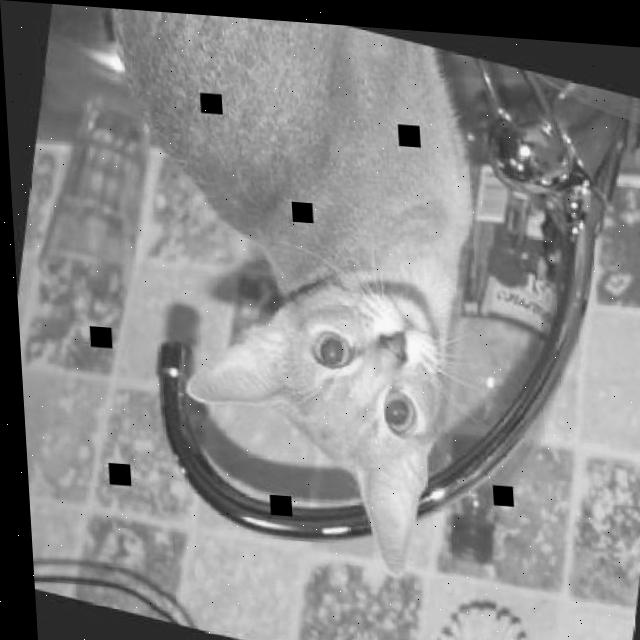Cat: (0, 0, 522, 593)
